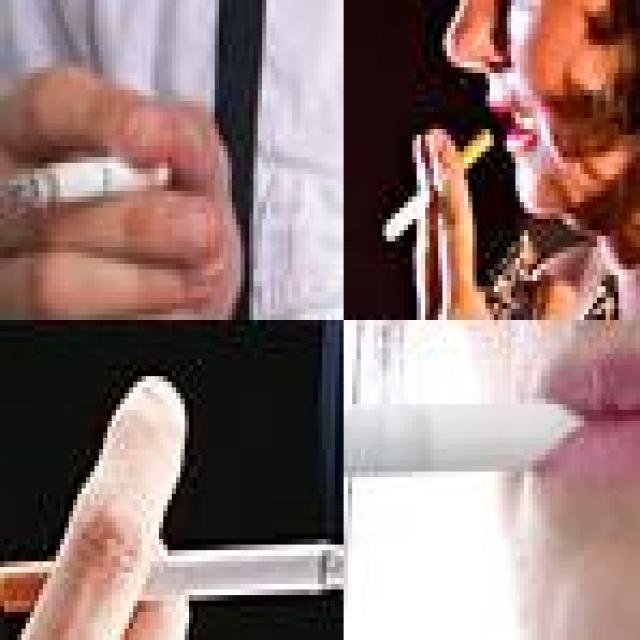smoking: (0, 538, 339, 617), (343, 398, 592, 482), (380, 129, 496, 247), (0, 146, 185, 213)
